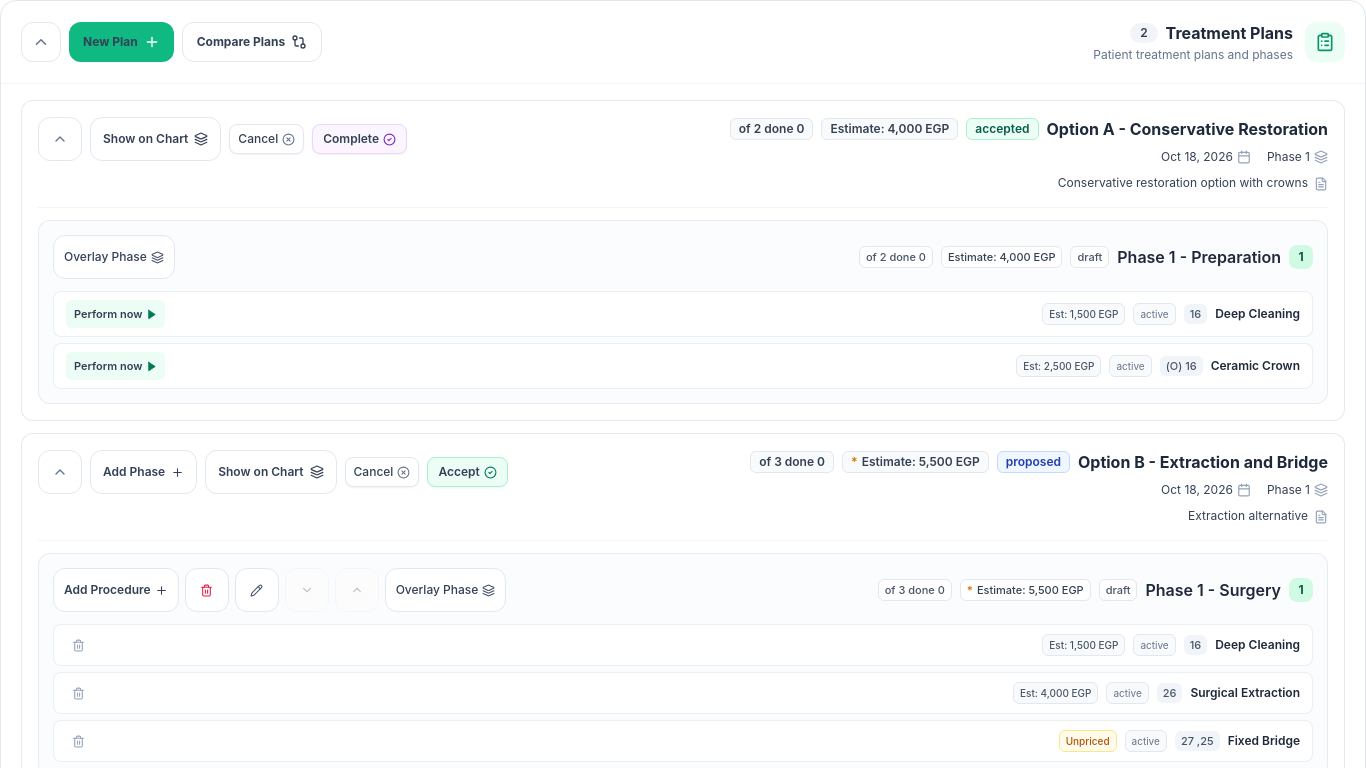
Test case: TreatmentPlansCard & Feature Gating › Treatment Plan Comparison UX (G9-M11 / S14) › displays Currently Accepted badge when an accepted plan is viewed in comparison and hides accept button
Click the button with test id "compare-clinical-plans-button". click: coordinates (252, 42)
box: [182,22,322,62]
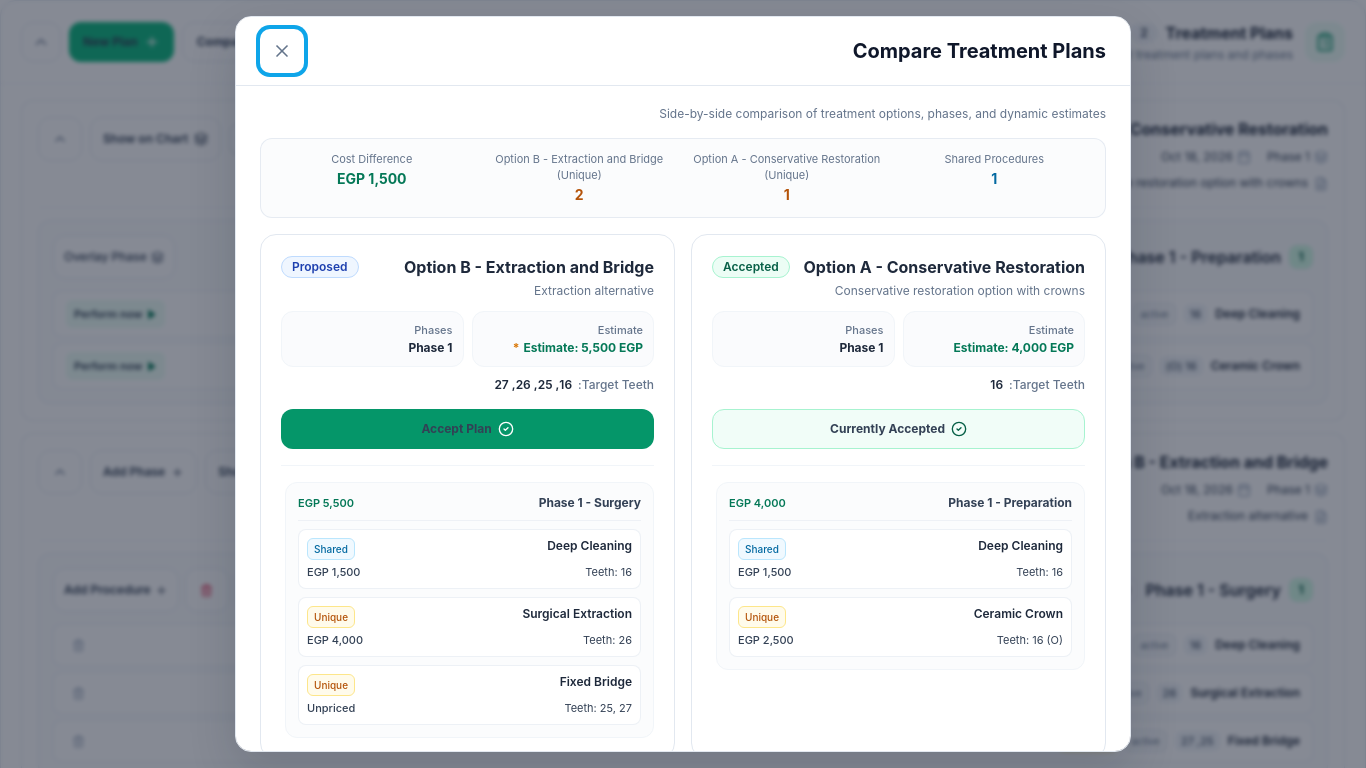
expect the element with test id "comparison-accepted-status-10" is shown: met, box [712,409,1085,449]
expect the element with test id "comparison-accepted-status-10" reads "Currently Accepted": met, box [830,421,945,436]
expect the button with test id "comparison-accept-plan-20" is shown: met, box [281,409,654,449]
